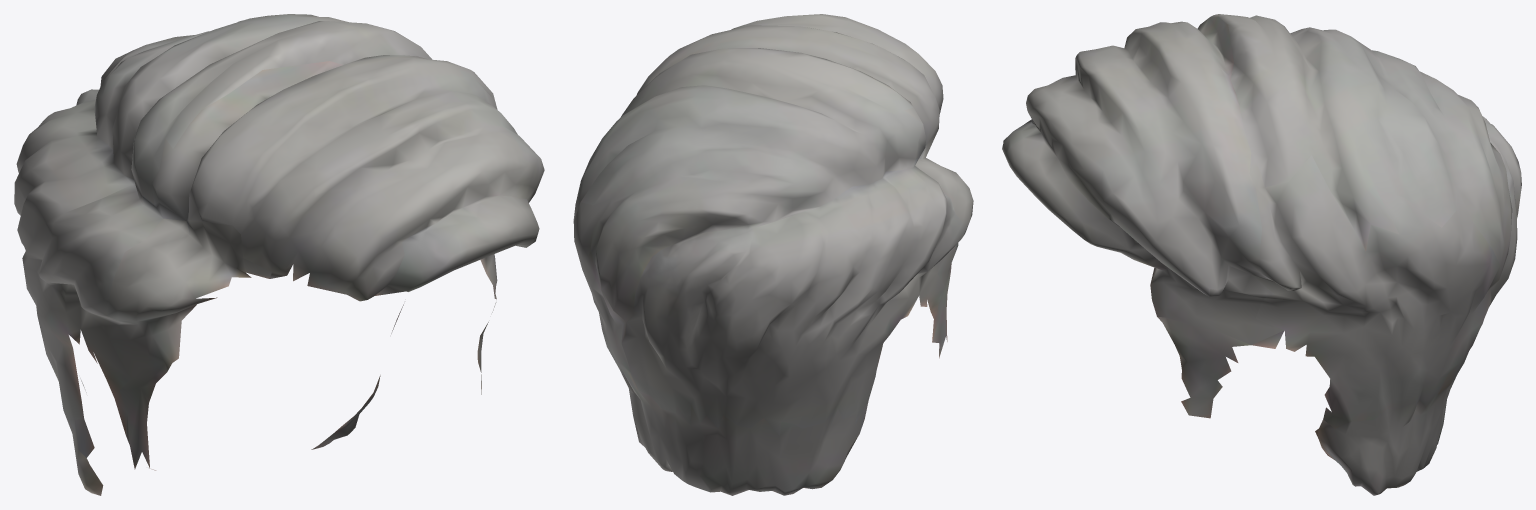
The model's file is hair-m-side-part.glb.
3 views of the same model, side by side, from view 1: azimuth 30°, elevation 25°; view 2: azimuth 150°, elevation 25°; view 3: azimuth 270°, elevation 25° (orthographic). The views are drawn at different scales.
Parts seen in each view (by area): view 1: hair-m-side-part; view 2: hair-m-side-part; view 3: hair-m-side-part.
Part boxes in pixels (x1,y1,x2,y2): hair-m-side-part: (14, 14, 544, 495); hair-m-side-part: (573, 14, 973, 495); hair-m-side-part: (1002, 14, 1521, 495).
Size of the model in its own units: 0.8802 by 0.9812 by 1.09.
Materials: 1 (1 with a texture image).
